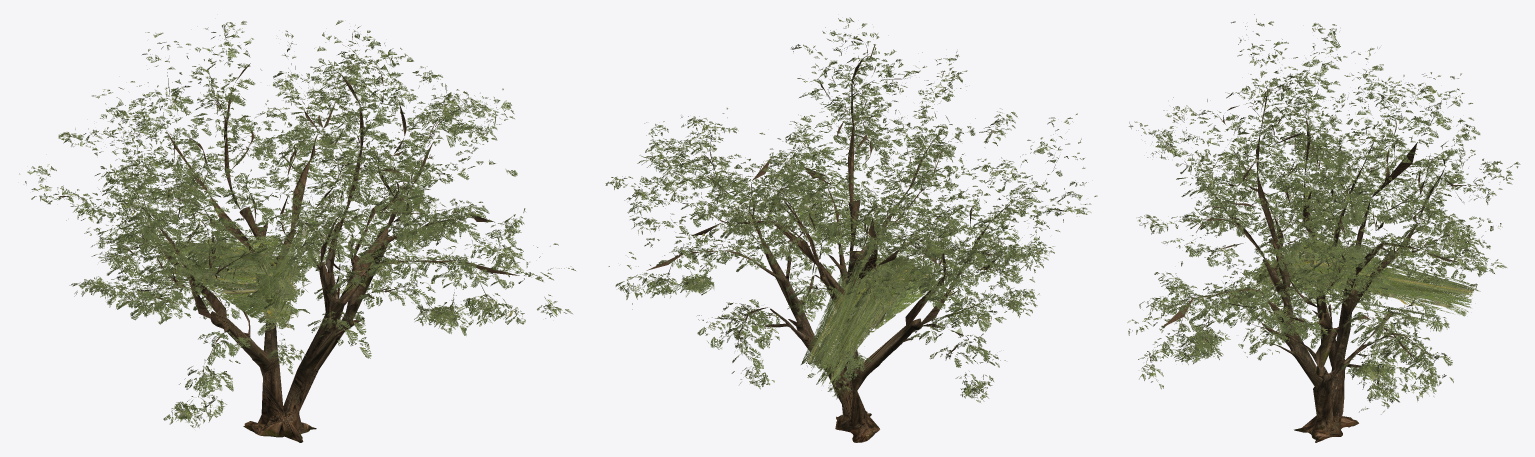
File: jacaranda_tree.glb
3 views of the same model, side by side, from view 1: azimuth 30°, elevation 25°; view 2: azimuth 150°, elevation 25°; view 3: azimuth 270°, elevation 25° (orthographic). The views are drawn at different scales.
Parts seen in each view (by area): view 1: jacaranda_tree_LOD0; view 2: jacaranda_tree_LOD0; view 3: jacaranda_tree_LOD0.
Part boxes in pixels (box(x1,y1,x2,y2)): jacaranda_tree_LOD0: box(19, 20, 575, 442); jacaranda_tree_LOD0: box(605, 17, 1097, 442); jacaranda_tree_LOD0: box(1127, 14, 1520, 442).
Bounding box in the file's own units: 3.91 × 3.17 × 2.98.
Materials: 3 (3 with a texture image).
